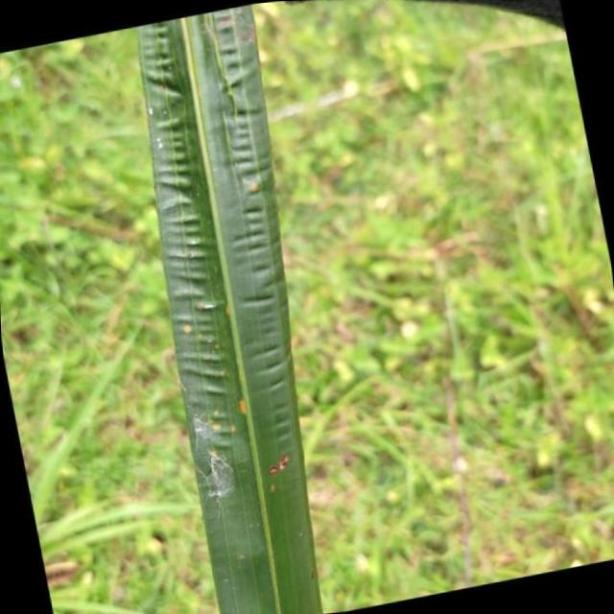Boron: (139, 3, 321, 614)
